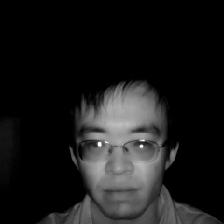normal: (57, 69, 188, 224)
